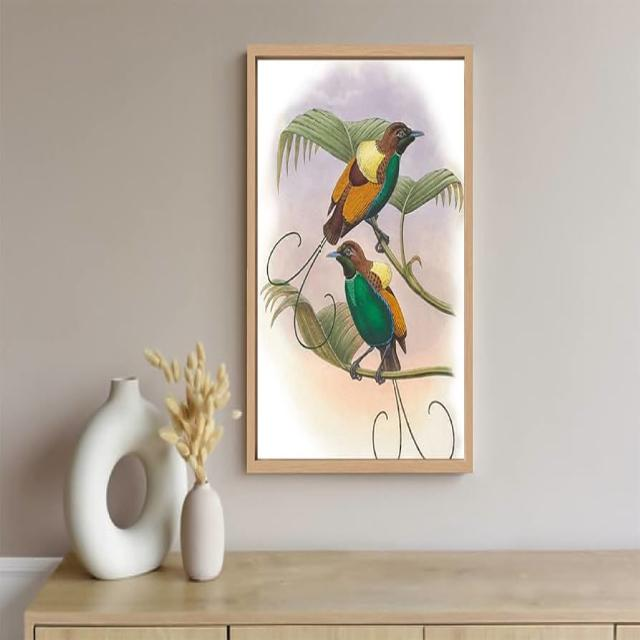painting: (244, 41, 474, 472)
